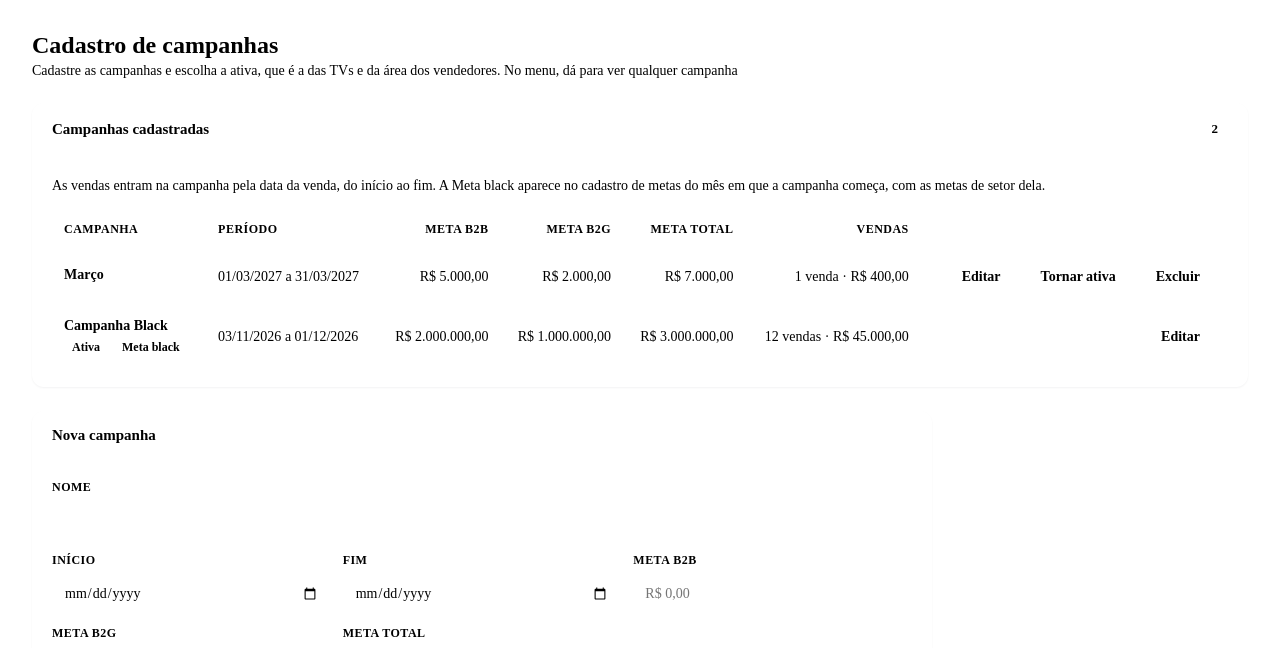
Test: CampaignsPage › mostra a mensagem do backend quando não dá para excluir
The image size is (1280, 648).
Step 1. Click the button with aria-label "Excluir Março" → (1178, 277), box [1140,257,1216,297]
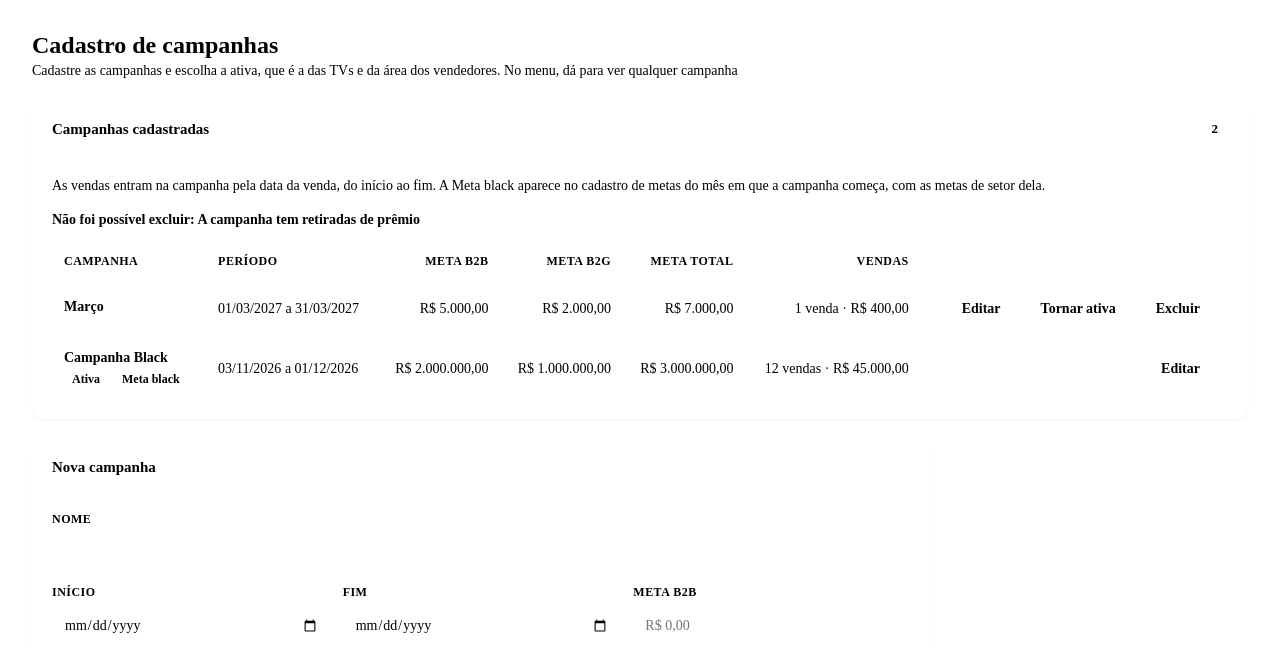
Expected: the text "Não foi possível excluir: A campanha tem retiradas de prêmio" is shown, [52,212,420,227]
